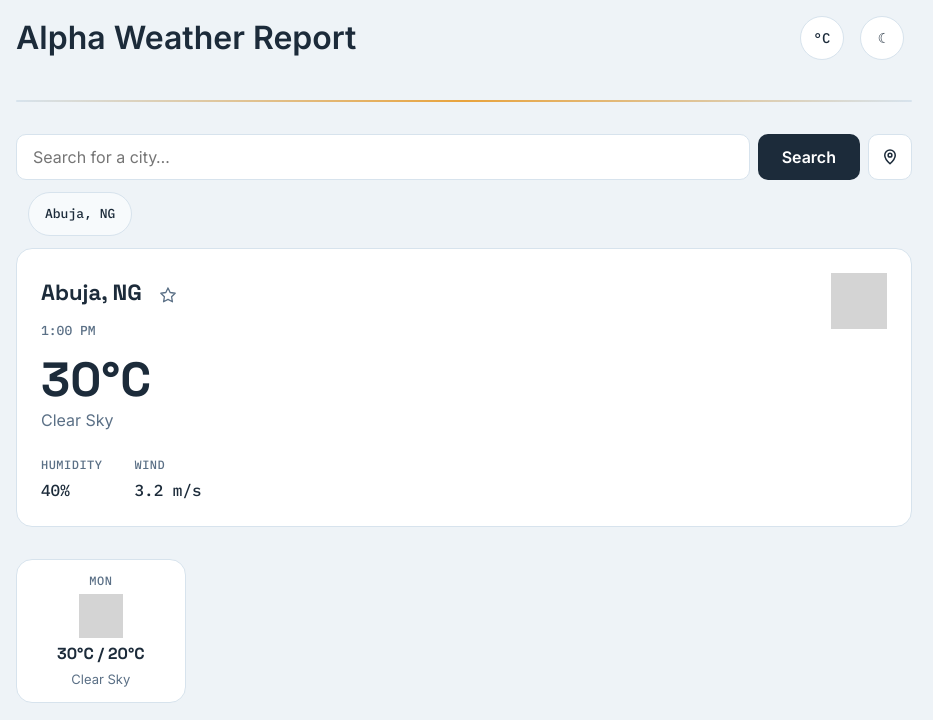
it: App — geolocation (Step 28) › clicking the location button always attempts a fetch, regardless of prior permission state
The width and height of the screenshot is (933, 720).
Check: the text "30°C" is shown, box [41, 349, 151, 410]
Click the button named "use my location" at (890, 157), box [868, 134, 912, 180]
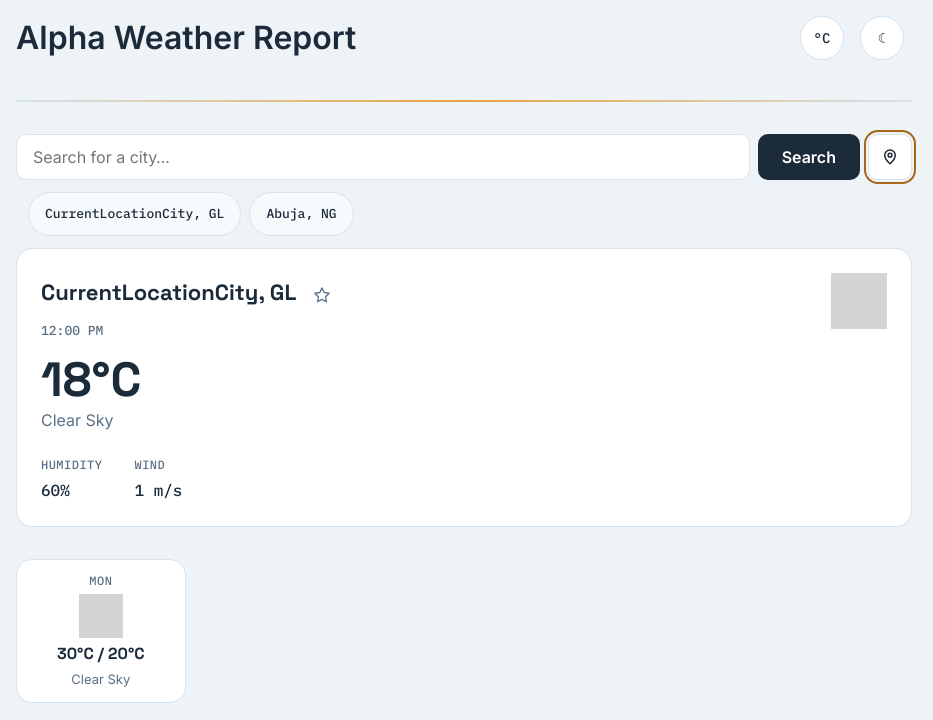
Check: the text "18°C" is shown, box [41, 349, 141, 410]
